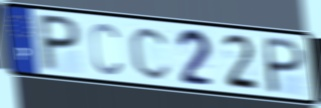2: (175, 26, 218, 90), (220, 32, 259, 92)
C: (128, 25, 174, 82), (88, 20, 123, 77)
P: (39, 12, 83, 73), (264, 35, 307, 96)
